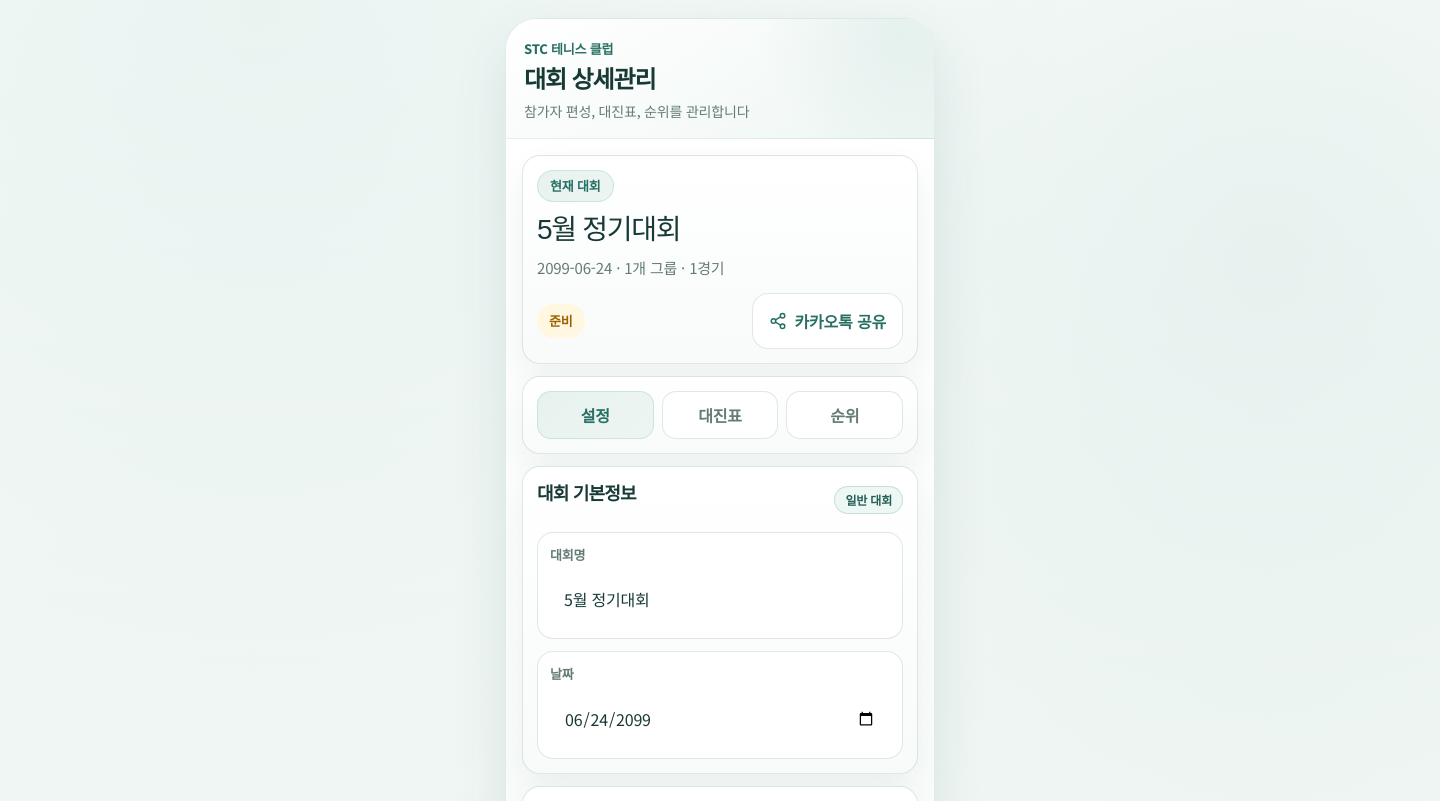
Scenario: TournamentManageClient save timing › omits only ranking-excluded members while retaining their match result for other players
Click the button "순위" at coordinates (845, 415), box [786,391,903,439]
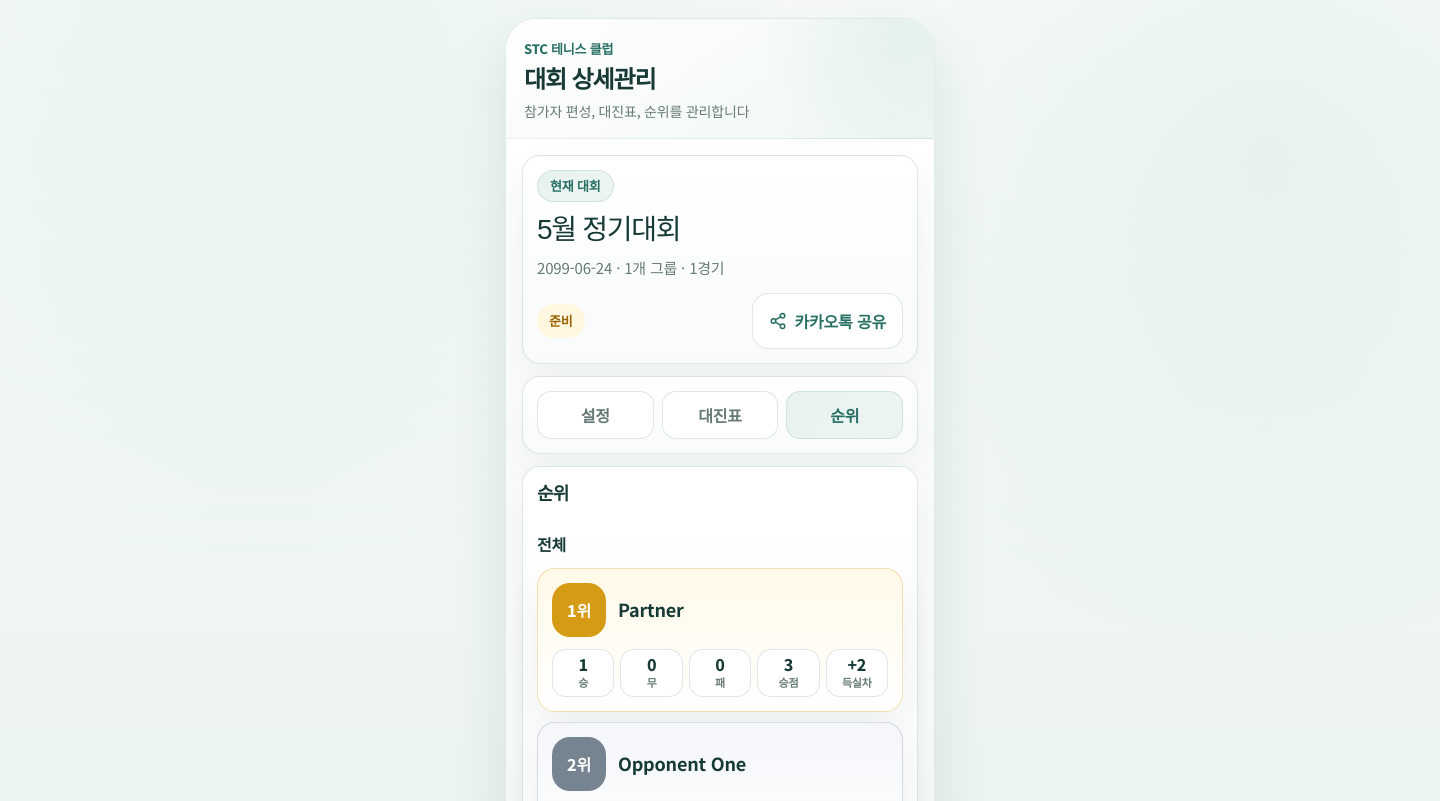
Now the element with class "ranking-card-list" shows "Partner", box [618,596,684,622]
Now the element with class "ranking-card-list" shows "Opponent One", box [618,750,746,776]
Now the number of elements with class "ranking-card" is 3
